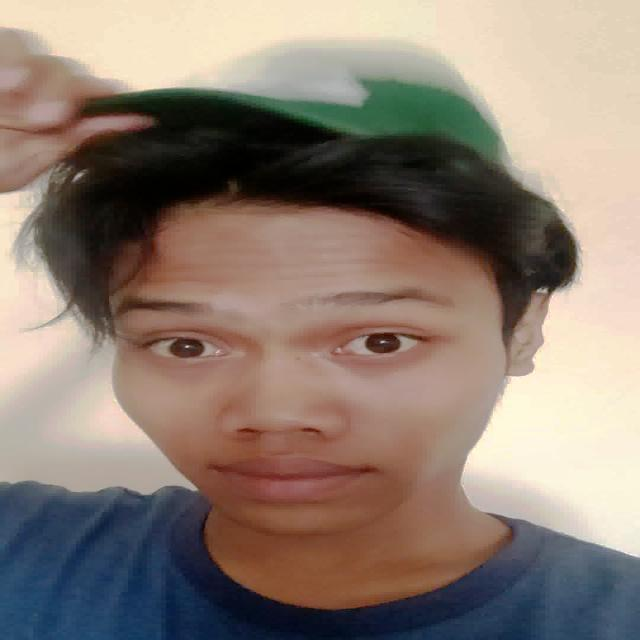TOPI: (69, 62, 521, 156)
